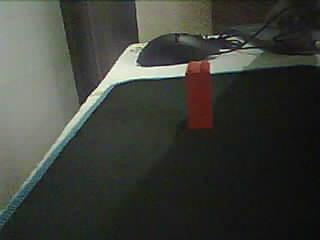lego: (184, 61, 213, 130)
